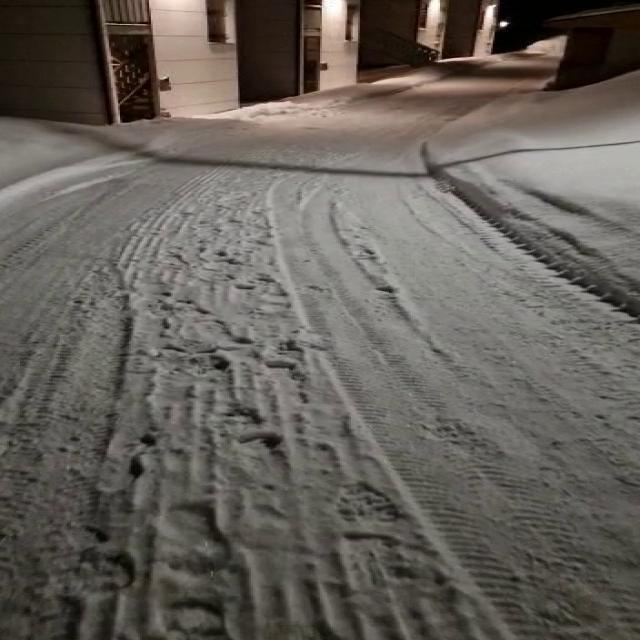path: (0, 53, 640, 638)
